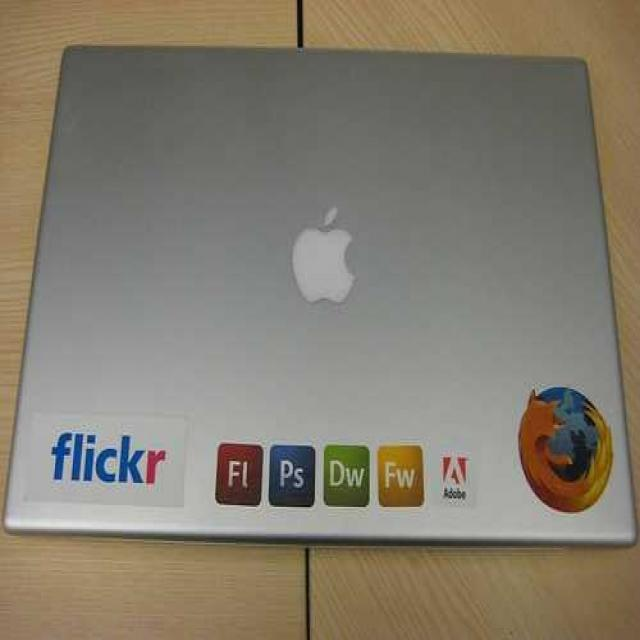laptop: (58, 45, 598, 572)
